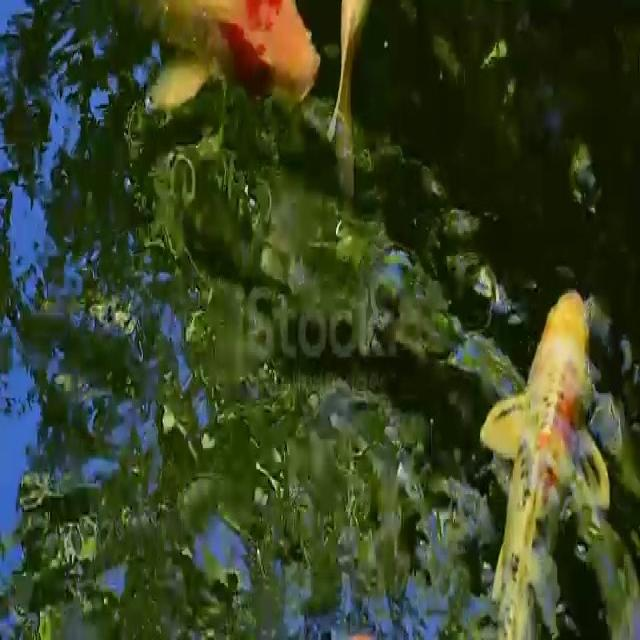fish: (482, 275, 618, 640), (98, 0, 319, 112)
